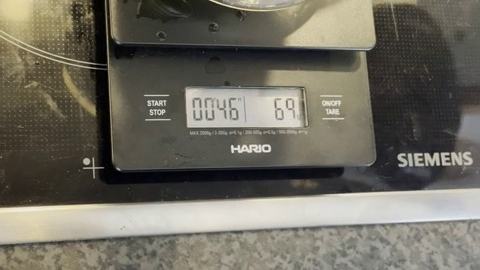display: (185, 88, 304, 129)
